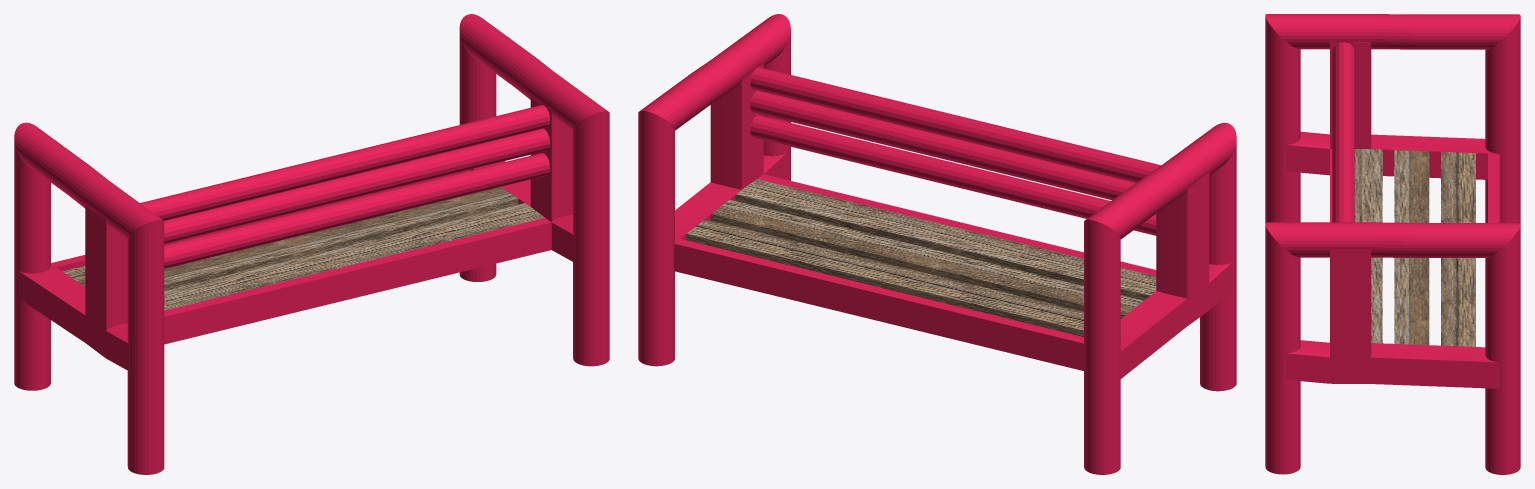
Rendered from bancoOF.fbx.
The picture shows the model from 3 angles, left to right: view 1: azimuth 30°, elevation 25°; view 2: azimuth 150°, elevation 25°; view 3: azimuth 270°, elevation 25°; orthographic projection. The views are drawn at different scales.
Parts seen in each view (by area): view 1: Cylinder.002, Plancas; view 2: Cylinder.002, Plancas; view 3: Cylinder.002, Plancas.
Part boxes in pixels (box(x1,y1,x2,y2)): Cylinder.002: box(14, 14, 609, 474); Plancas: box(62, 187, 544, 310); Cylinder.002: box(638, 14, 1236, 474); Plancas: box(686, 179, 1156, 336); Cylinder.002: box(1265, 14, 1520, 474); Plancas: box(1354, 149, 1475, 346).
Size of the model in its own units: 644 by 326 by 310.
Materials: 2 (1 with a texture image).
